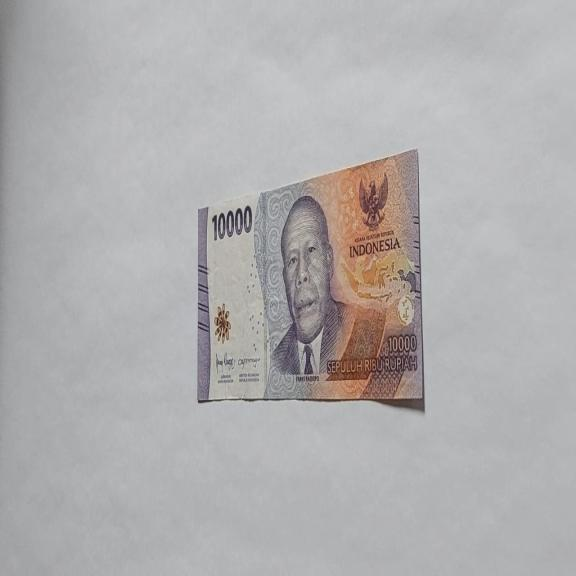Kertas: (196, 147, 425, 409)
